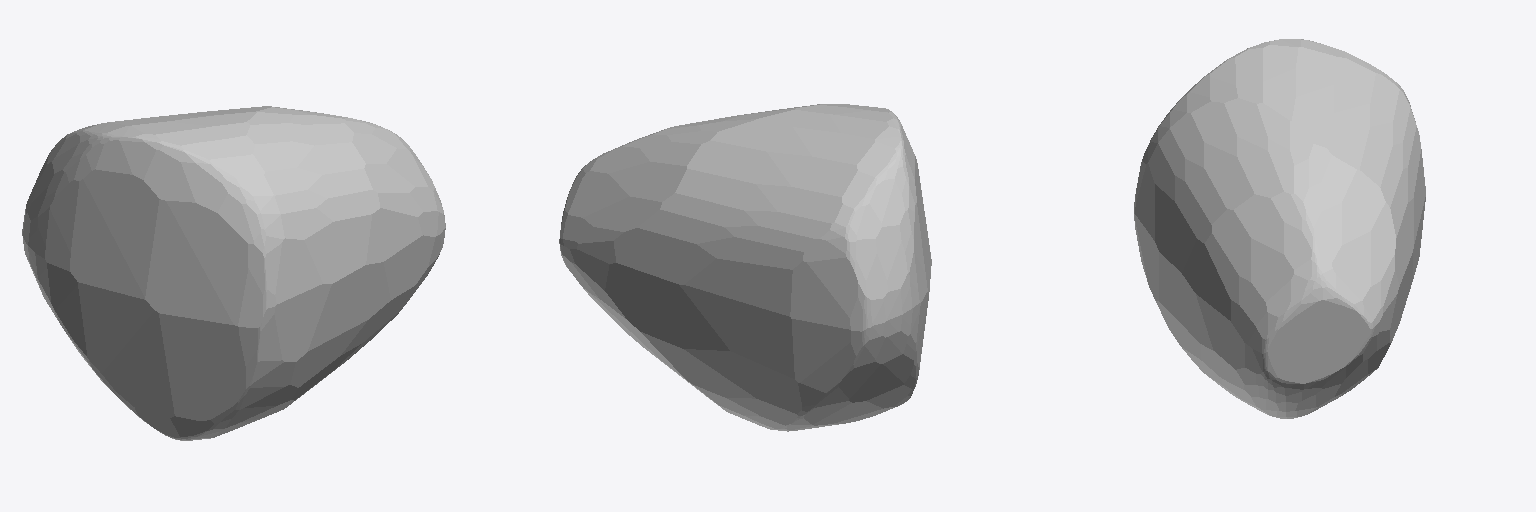
The model's file is 41_Daphne_131.obj.
3 views of the same model, side by side, from view 1: azimuth 30°, elevation 25°; view 2: azimuth 150°, elevation 25°; view 3: azimuth 270°, elevation 25° (orthographic).
Parts seen in each view (by area): view 1: 41_Daphne_131; view 2: 41_Daphne_131; view 3: 41_Daphne_131.
Part boxes in pixels (x1,y1,x2,y2): 41_Daphne_131: (22, 106, 445, 440); 41_Daphne_131: (559, 104, 931, 431); 41_Daphne_131: (1134, 39, 1425, 418).
Size of the model in its own units: 236 by 191 by 164.